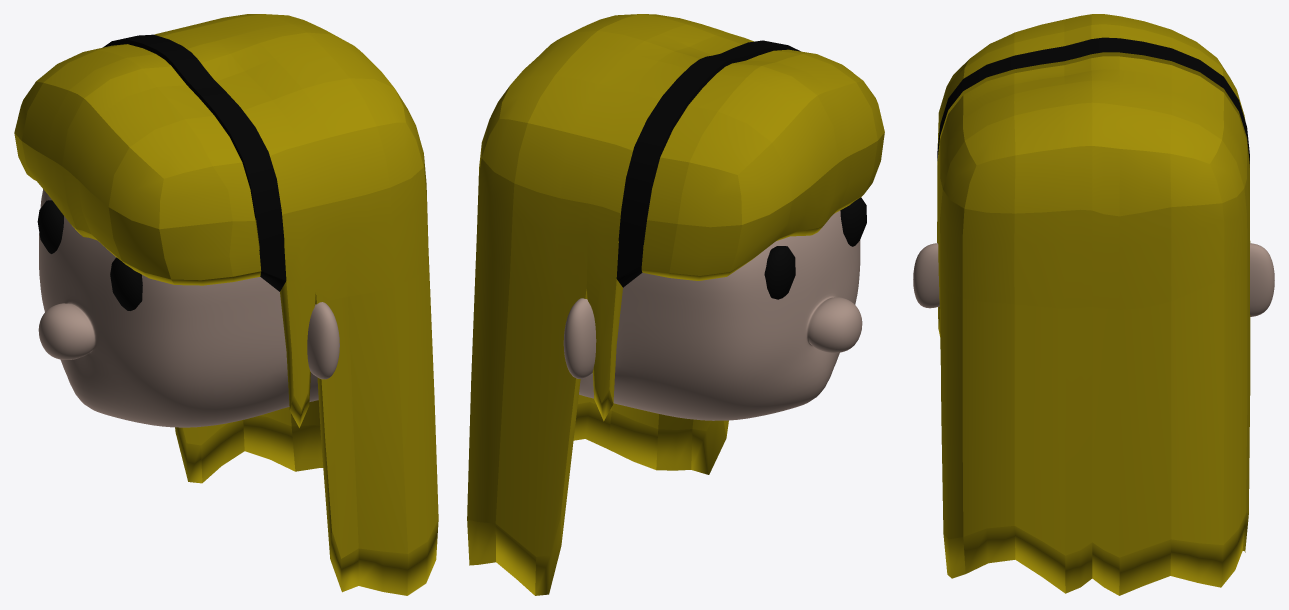
Rendered from aliceheadNEW.FBX.
3 views of the same model, side by side, from view 1: azimuth 30°, elevation 25°; view 2: azimuth 150°, elevation 25°; view 3: azimuth 270°, elevation 25° (orthographic). The views are drawn at different scales.
Visible parts, largest first — view 1: Object003, Box004, GeoSphere010, GeoSphere009; view 2: Object003, Box004, GeoSphere009, GeoSphere010; view 3: Object003, Box004.
Boxes of the visible parts, x1=… form: Object003: x1=14, y1=14, x2=438, y2=595; Box004: x1=38, y1=189, x2=339, y2=427; GeoSphere010: x1=110, y1=257, x2=142, y2=310; GeoSphere009: x1=37, y1=200, x2=63, y2=253; Object003: x1=467, y1=14, x2=884, y2=595; Box004: x1=563, y1=210, x2=862, y2=420; GeoSphere009: x1=764, y1=246, x2=795, y2=299; GeoSphere010: x1=840, y1=197, x2=866, y2=246; Object003: x1=937, y1=14, x2=1250, y2=595; Box004: x1=913, y1=243, x2=1274, y2=316.
Size of the model in its own units: 72.71 by 104 by 73.21.
